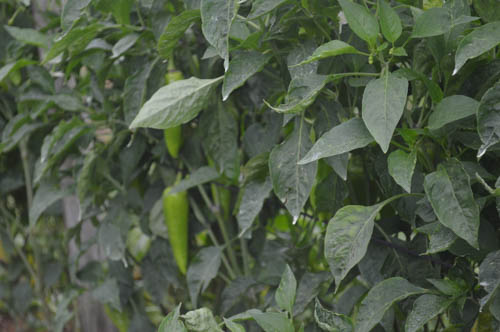ChiliPepper: (159, 189, 191, 278), (158, 71, 185, 160)
